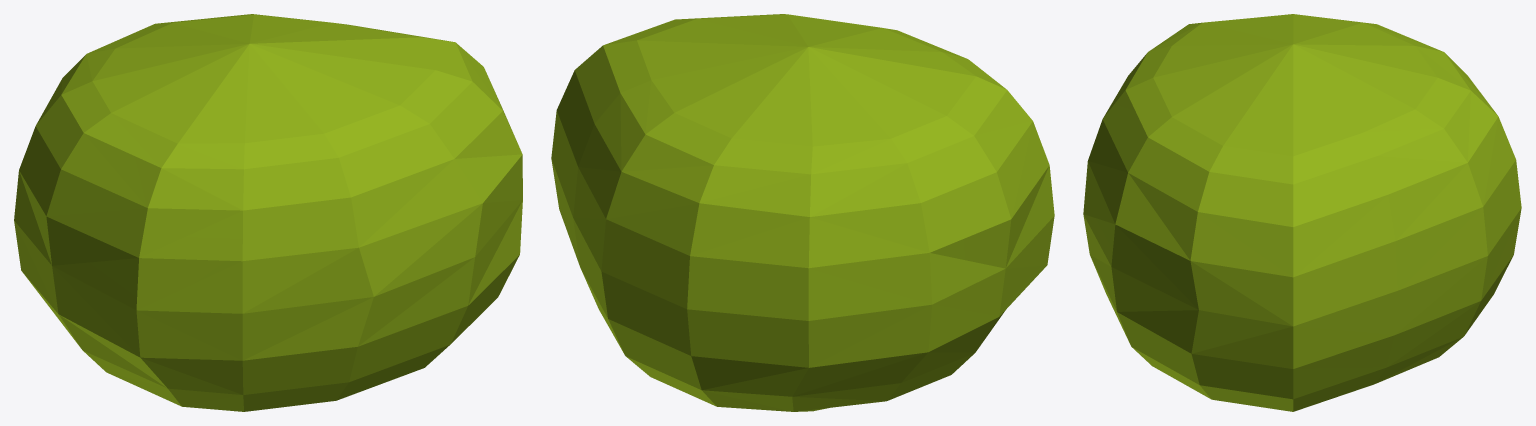
The model's file is Vegetation_Modular_Tree_Foliage_Clump_Large_12.fbx.
3 views of the same model, side by side, from view 1: azimuth 30°, elevation 25°; view 2: azimuth 150°, elevation 25°; view 3: azimuth 270°, elevation 25° (orthographic). The views are drawn at different scales.
Parts seen in each view (by area): view 1: Vegetation_Modular_Tree_Foliage_Clump_Large_12; view 2: Vegetation_Modular_Tree_Foliage_Clump_Large_12; view 3: Vegetation_Modular_Tree_Foliage_Clump_Large_12.
Boxes of the visible parts, x1,y1,x2,y2 form: Vegetation_Modular_Tree_Foliage_Clump_Large_12: (14,14,522,411); Vegetation_Modular_Tree_Foliage_Clump_Large_12: (551,14,1054,411); Vegetation_Modular_Tree_Foliage_Clump_Large_12: (1083,14,1521,411).
Size of the model in its own units: 3785 by 2567 by 3317.
